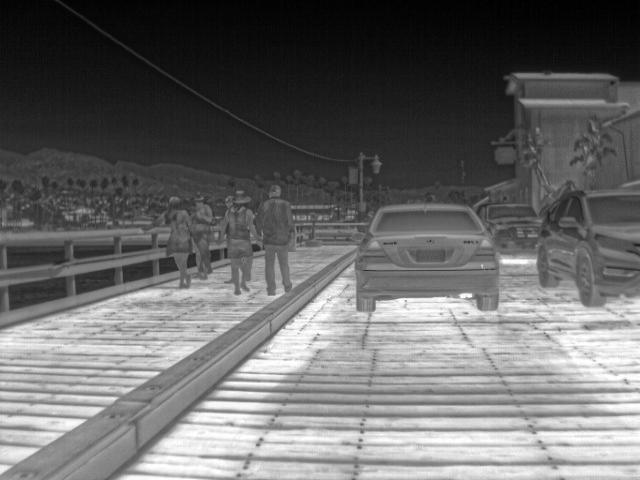car: (353, 200, 502, 311), (535, 184, 639, 308), (477, 203, 543, 255)
person: (142, 195, 197, 291), (256, 183, 294, 292), (226, 189, 255, 297), (192, 193, 218, 281)
